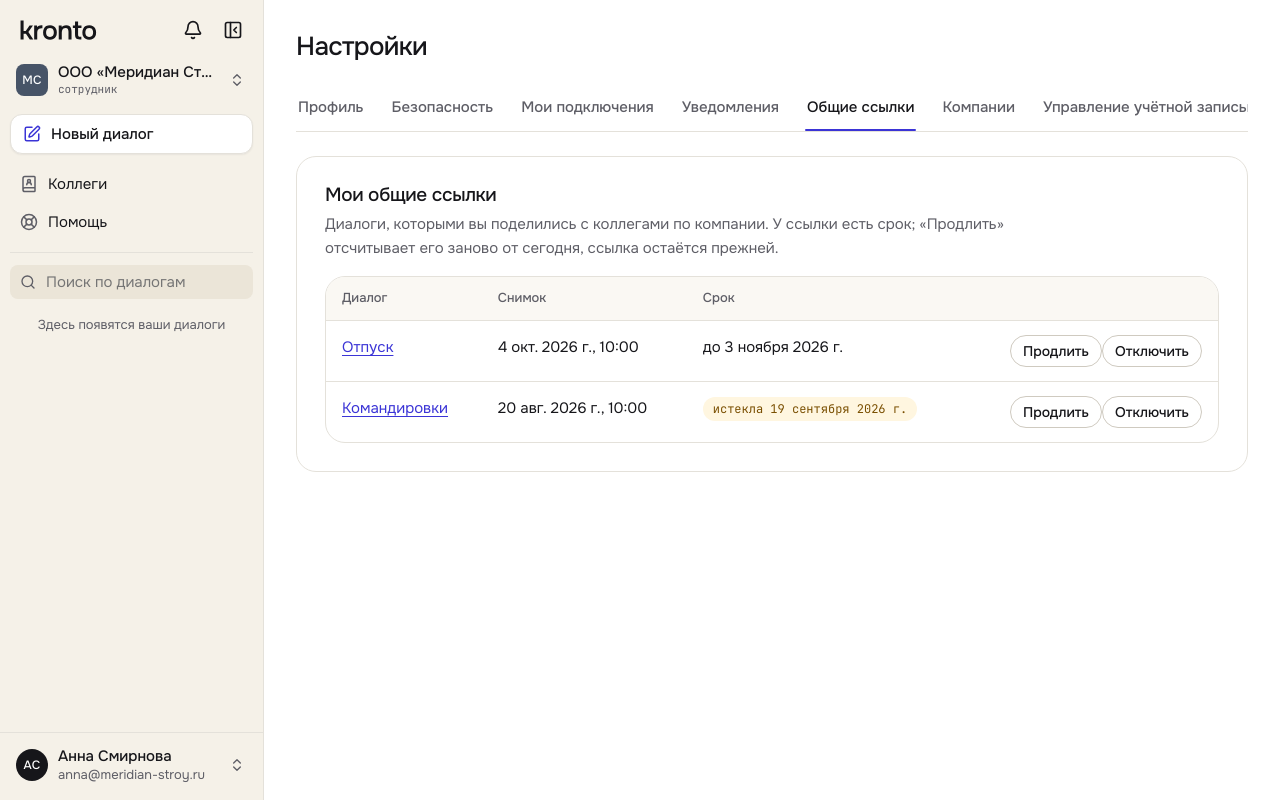
Test: настройки: мои общие ссылки › срок каждой ссылки; продлить и отключить
This screenshot has width=1280, height=800.
Click the button with aria-label "Продлить: Командировки": click(1056, 412) [1010,396,1102,428]
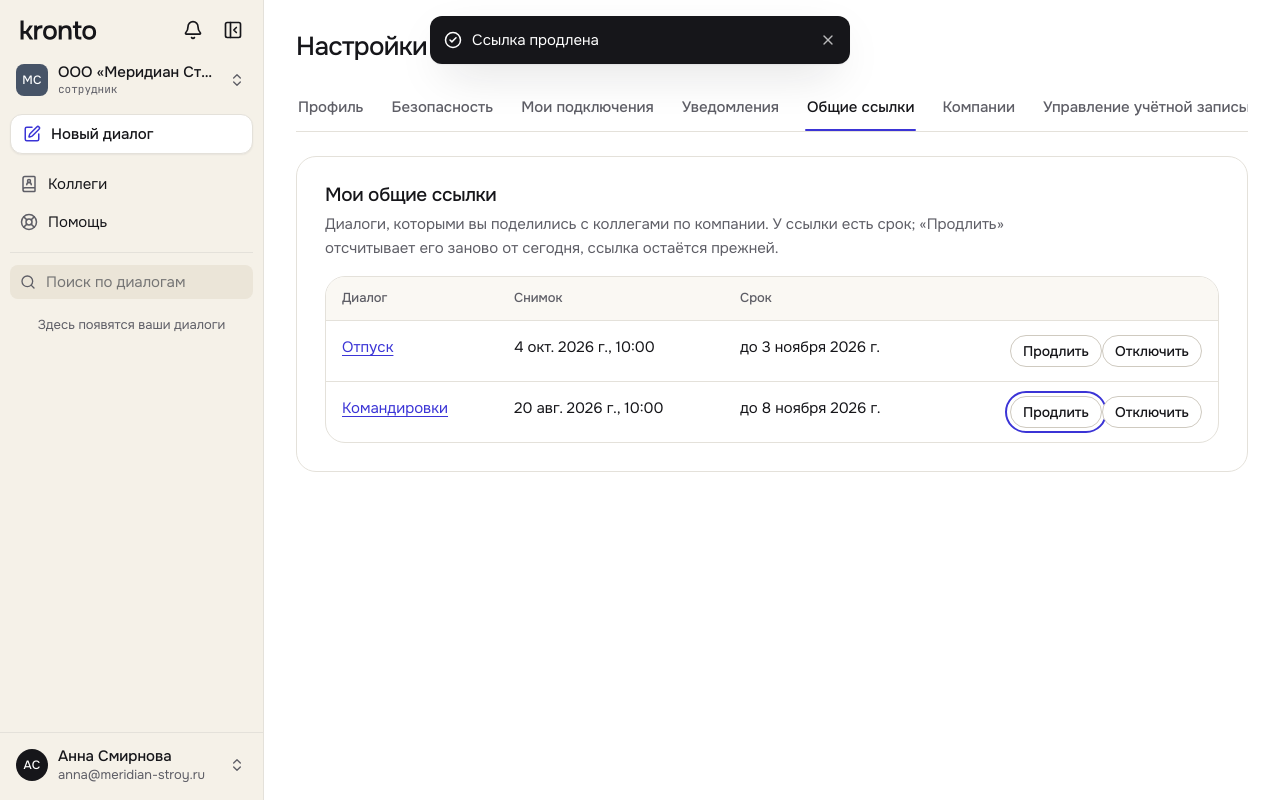
Check: the text "до 8 ноября 2026 г." is shown, box [724,382,939,442]
Click the button with aria-label "Отключить: Отпуск": click(1152, 351) [1102,335,1202,367]
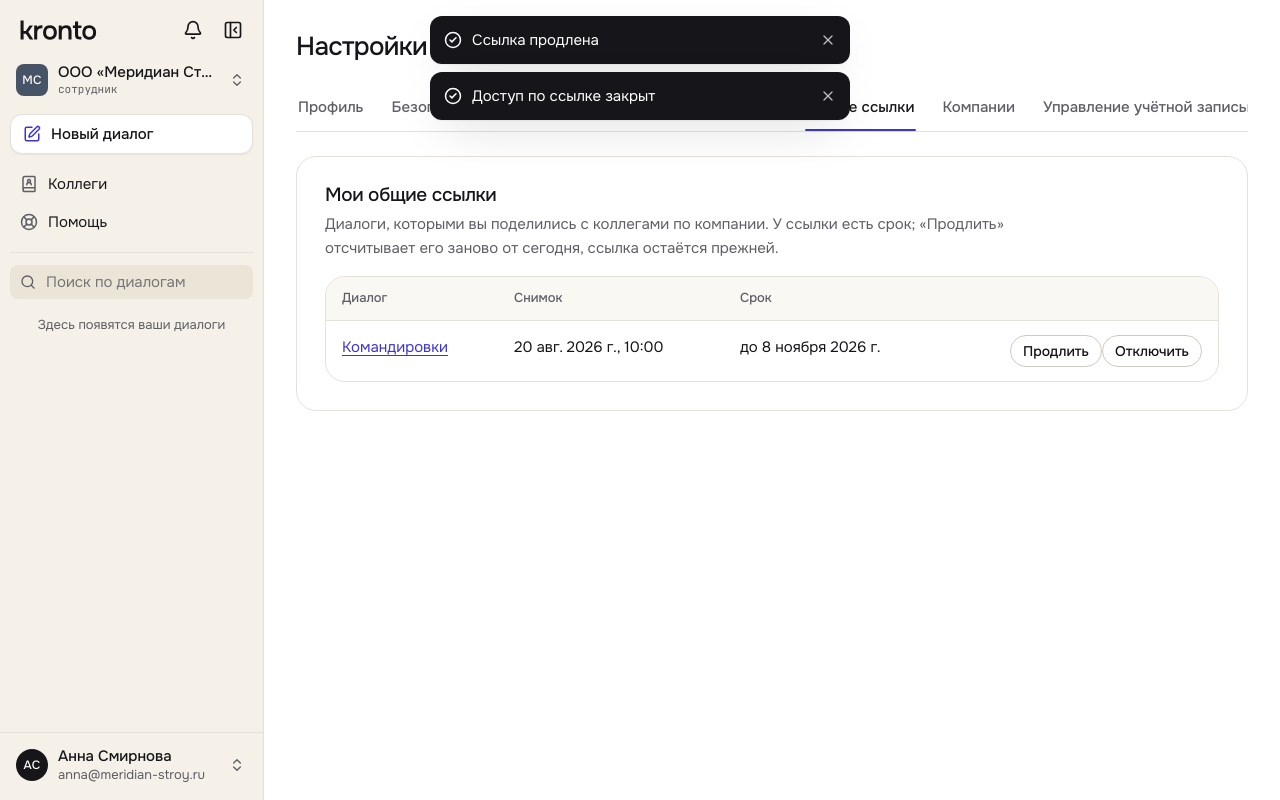
Check: the text "Доступ по ссылке закрыт" is shown, box [472,86,655,106]
Check: the link "Отпуск" is gone
